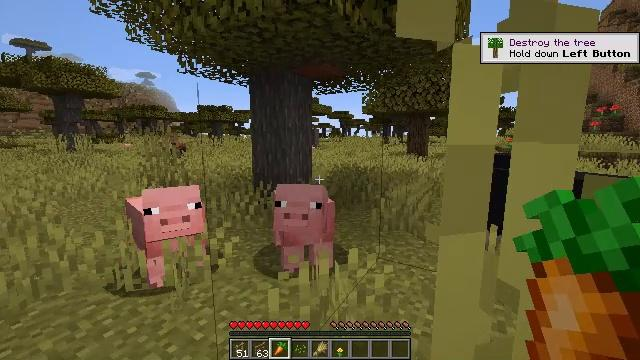pig: (125, 187, 210, 285), (274, 183, 333, 270)
